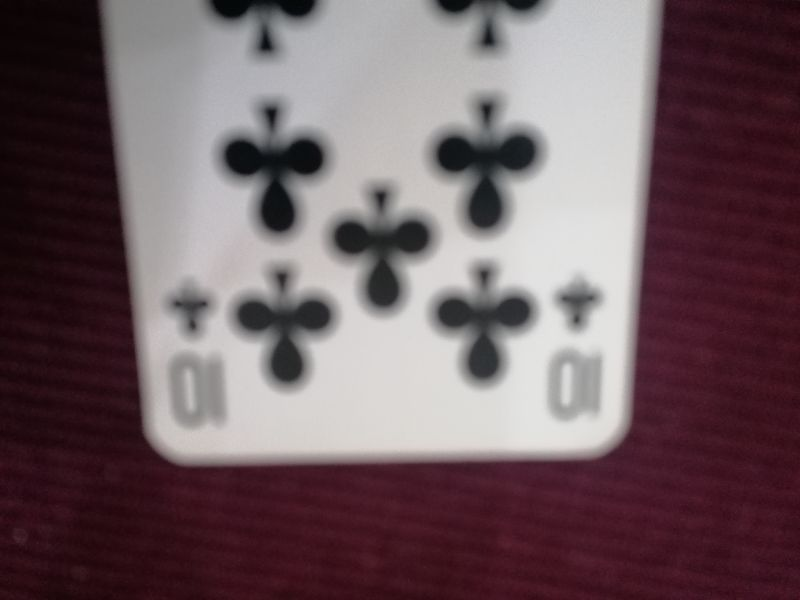Tc: (159, 269, 233, 434), (542, 260, 611, 421)
